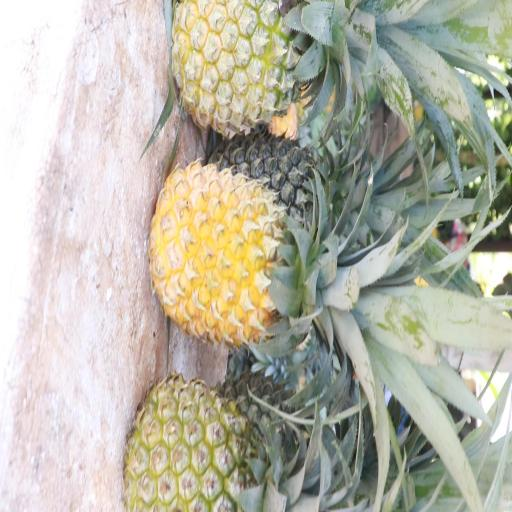------------------------------: (126, 371, 293, 512), (173, 0, 336, 136)
Pineapple - v8 v1: (158, 160, 328, 348)
